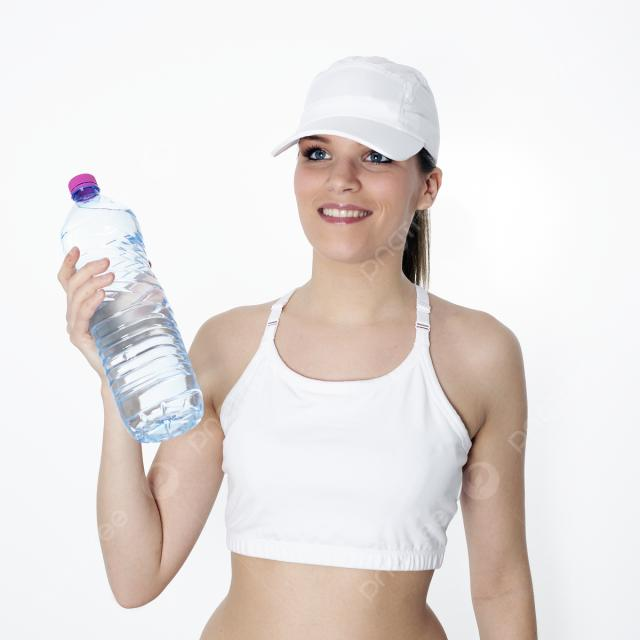bottle: (60, 170, 207, 444)
